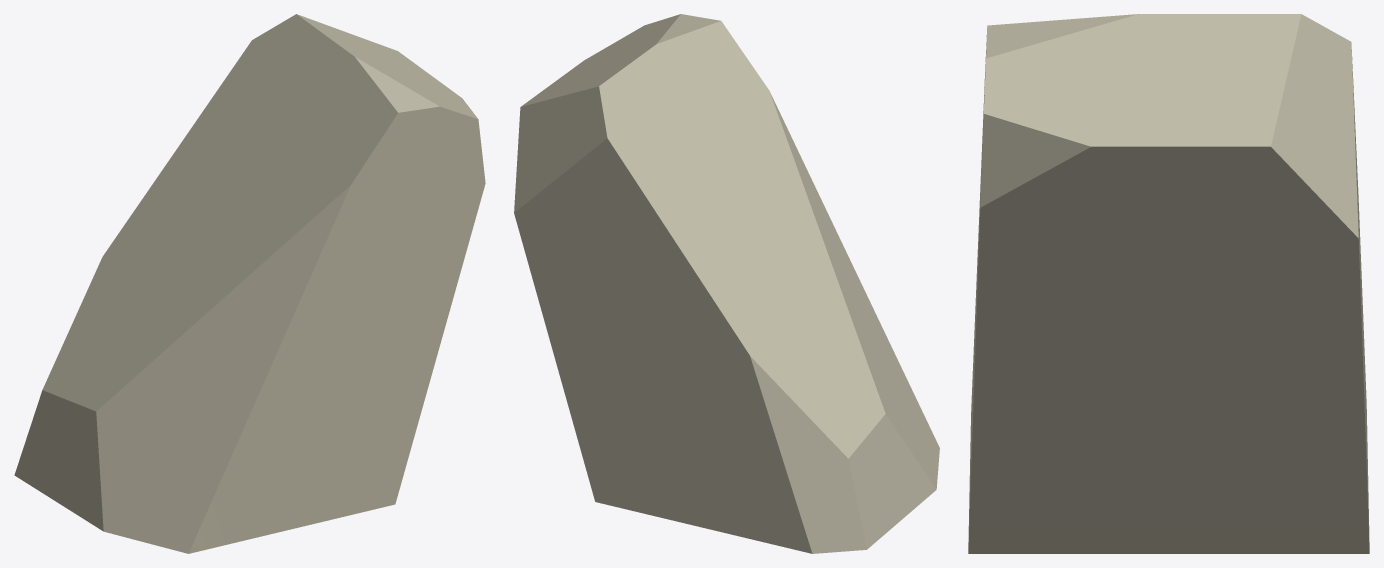
Rendered from Rock_Square_l_07.fbx.
The picture shows the model from 3 angles, left to right: view 1: azimuth 30°, elevation 25°; view 2: azimuth 150°, elevation 25°; view 3: azimuth 270°, elevation 25°; orthographic projection. The views are drawn at different scales.
Visible parts, largest first — view 1: Rock_Square_l_07; view 2: Rock_Square_l_07; view 3: Rock_Square_l_07.
Part boxes in pixels (<box>): Rock_Square_l_07: <box>14,14,485,553</box>; Rock_Square_l_07: <box>514,14,939,553</box>; Rock_Square_l_07: <box>968,14,1369,553</box>.
Bounding box in the file's own units: 232 × 240 × 158.
